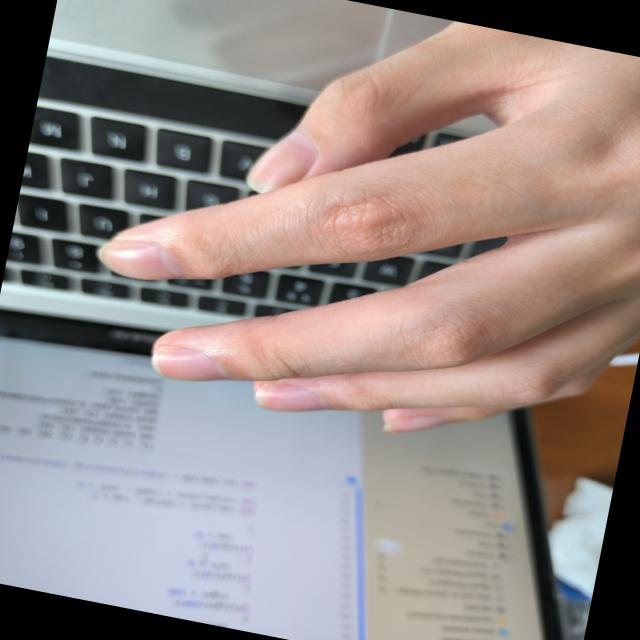Nail: (246, 131, 316, 192), (99, 241, 180, 279), (153, 345, 227, 380), (256, 383, 327, 410), (383, 415, 443, 433)
